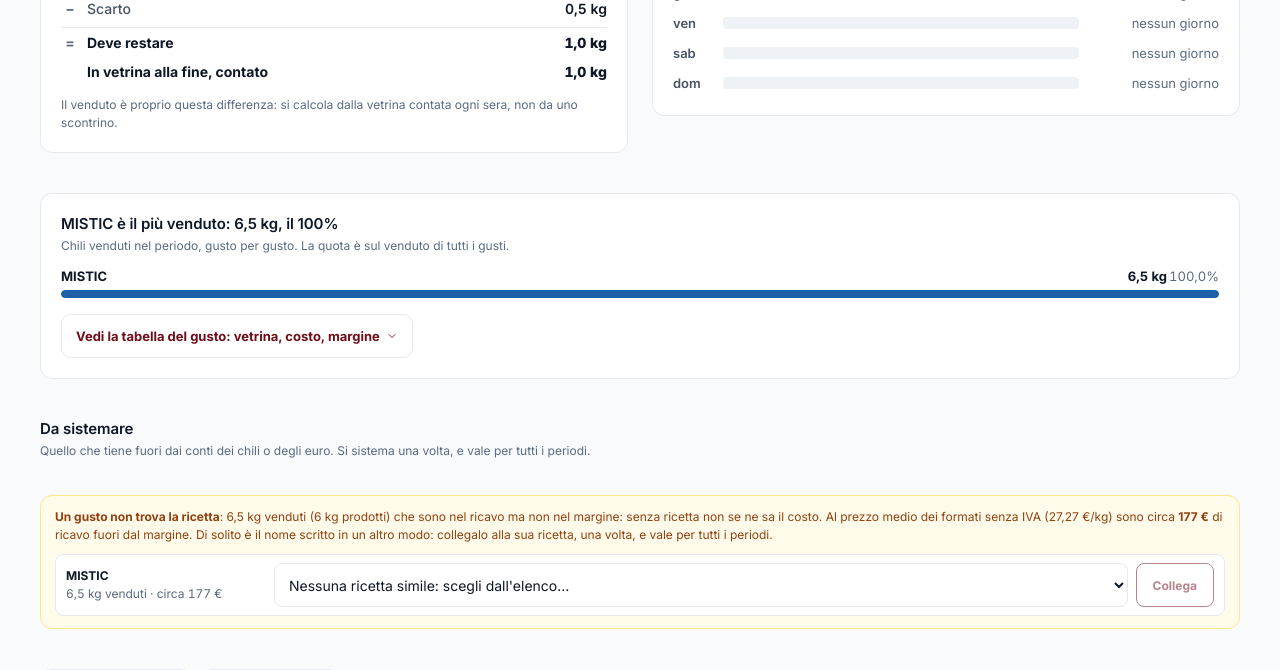
Test: Lo scarto nello Storico › con lo scarto scritto mostra i chili e non dice «non registrato»
This screenshot has width=1280, height=670.
(page scrolled)
// Con lo scarto scritto la colonna c'è.
Click the button "Vedi la tabella del gusto: vetrina, costo, margine" at (237, 336), box [61,314,413,358]
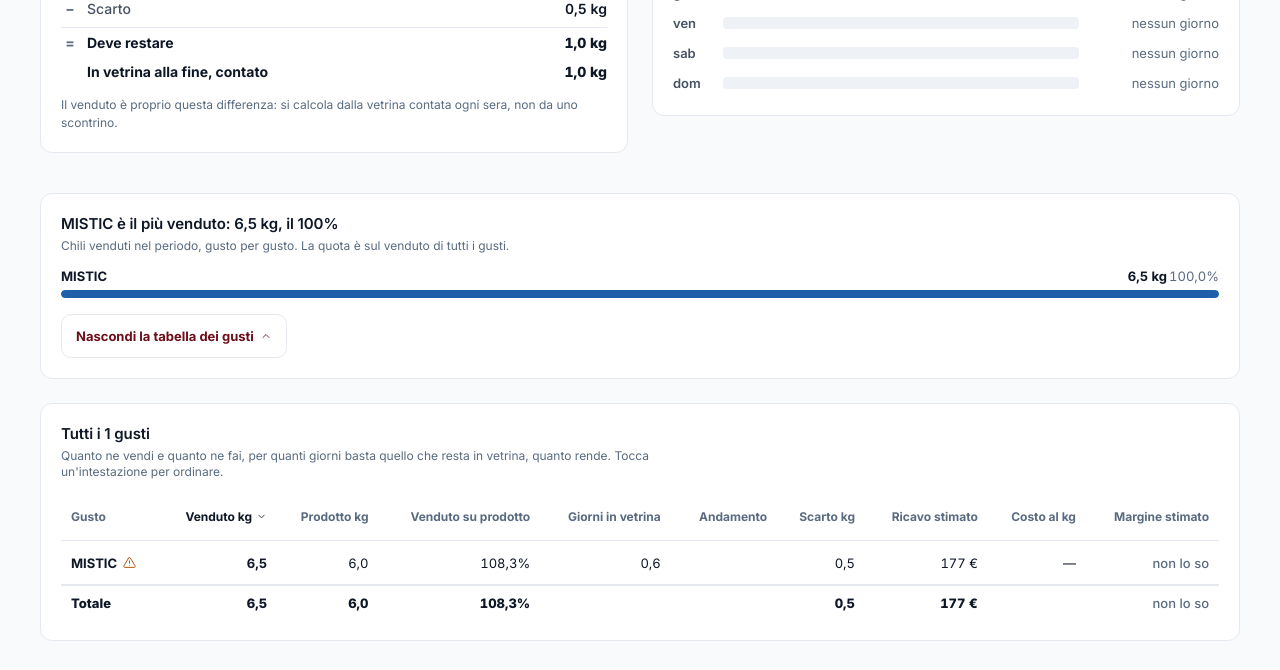
Expected: the column heading "Scarto kg" is shown, [777,492,865,540]
